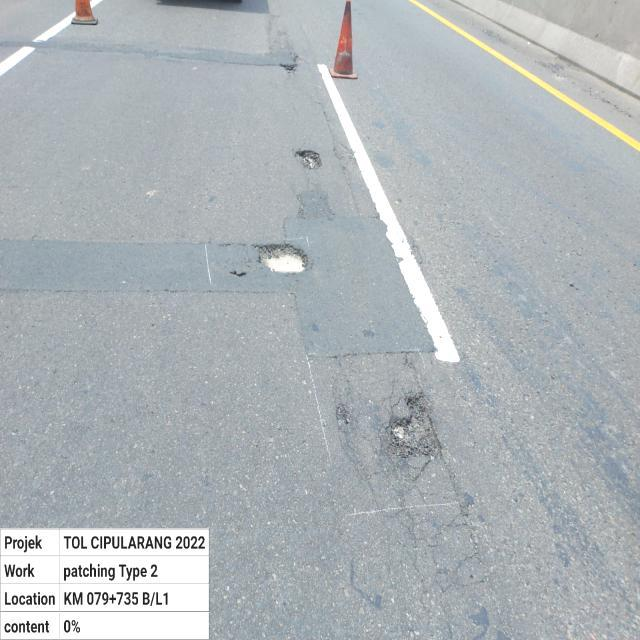Buraco: (381, 388, 449, 466), (248, 241, 316, 276), (292, 148, 326, 170), (278, 54, 305, 76), (227, 268, 250, 280)
